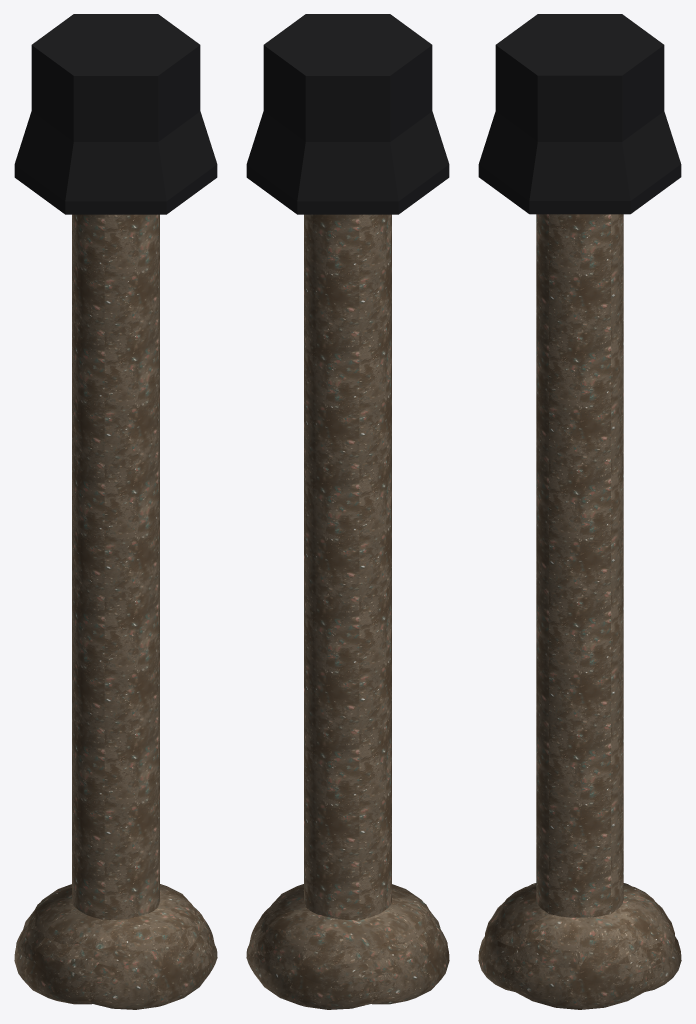
File: L2_Flujo.obj
3 renders of one model, left to right at view 1: azimuth 30°, elevation 25°; view 2: azimuth 150°, elevation 25°; view 3: azimuth 270°, elevation 25°, orthographic.
Parts seen in each view (by area): view 1: cylinder, hexagon_base, sphere; view 2: cylinder, hexagon_base, sphere; view 3: cylinder, hexagon_base, sphere.
Part boxes in pixels (<box>): cylinder: <box>72,214,159,920</box>; hexagon_base: <box>14,14,217,214</box>; sphere: <box>14,884,217,1009</box>; cylinder: <box>304,214,391,920</box>; hexagon_base: <box>246,14,449,214</box>; sphere: <box>246,884,449,1009</box>; cylinder: <box>536,214,623,917</box>; hexagon_base: <box>478,14,681,214</box>; sphere: <box>478,883,681,1009</box>.
Bounding box in the file's own units: 1.39 × 7.05 × 1.39.
